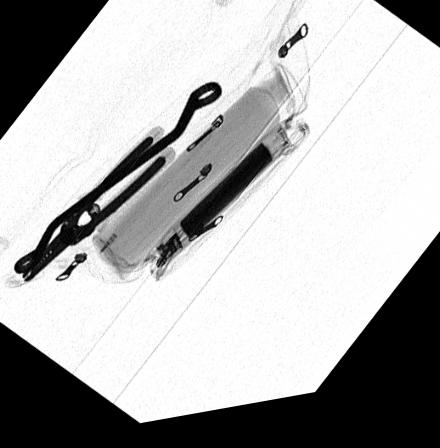Pliers: (19, 141, 166, 283)
Powerbank: (147, 134, 292, 277)
Wrench: (13, 88, 223, 276)
